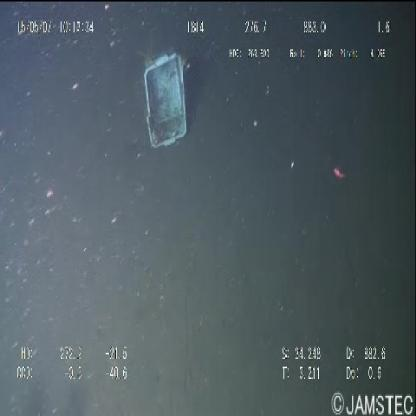Rác: (138, 35, 190, 162)
